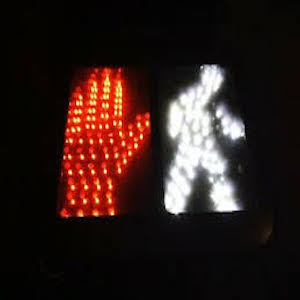green: (158, 60, 257, 217)
red: (58, 71, 142, 214)
